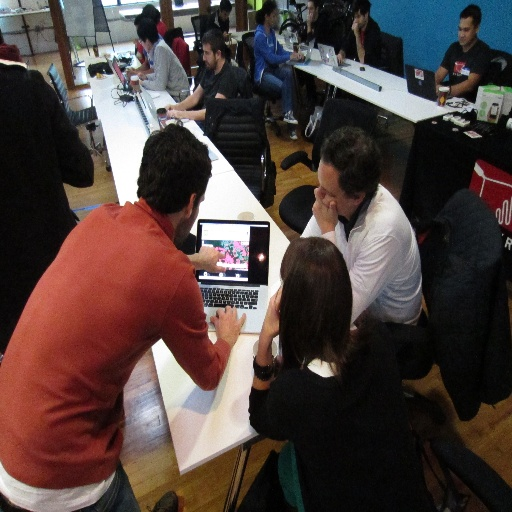hand: (206, 300, 240, 346), (311, 186, 339, 231), (262, 282, 283, 337), (197, 245, 226, 273), (486, 105, 499, 123), (166, 108, 183, 118), (124, 67, 137, 80), (351, 21, 359, 35), (306, 11, 313, 24), (435, 84, 443, 95), (136, 72, 148, 79), (336, 52, 343, 64), (163, 103, 175, 109), (130, 37, 138, 45), (291, 52, 298, 60), (222, 29, 228, 37), (299, 51, 304, 60), (138, 78, 142, 86), (128, 65, 136, 68)
